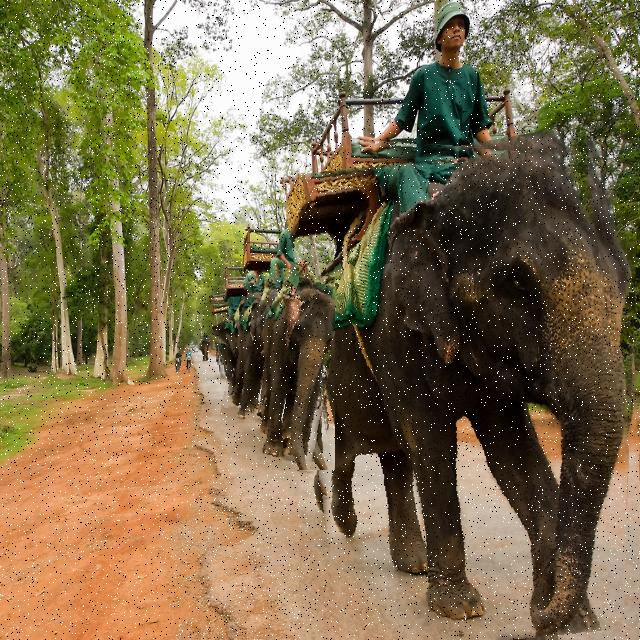elephant: (299, 135, 640, 640), (242, 268, 335, 470), (225, 297, 278, 423), (215, 318, 261, 408)
